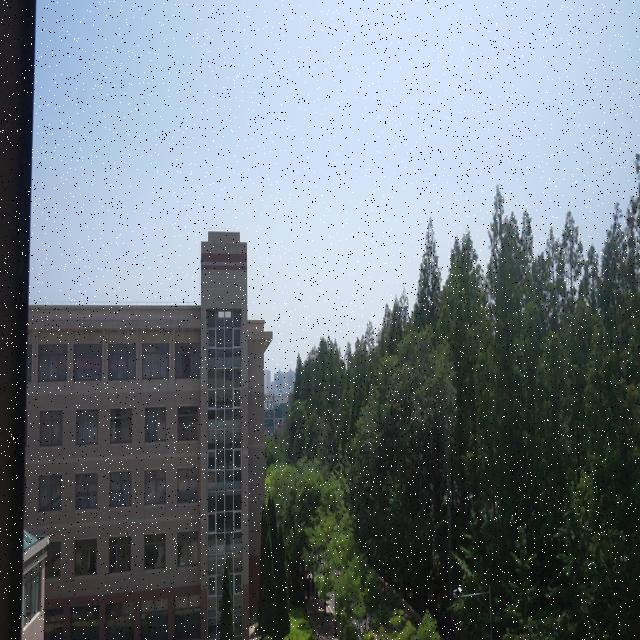UAV: (307, 352, 319, 362)
